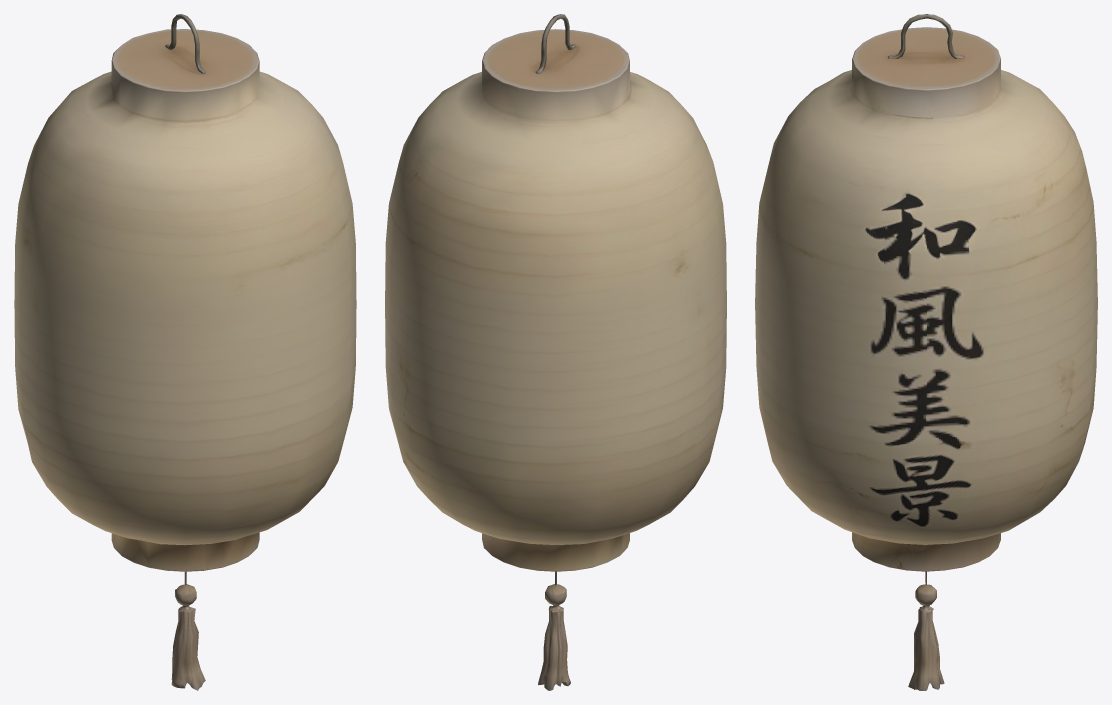
The model's file is latern1.glb.
3 renders of one model, left to right at view 1: azimuth 30°, elevation 25°; view 2: azimuth 150°, elevation 25°; view 3: azimuth 270°, elevation 25°, orthographic.
Visible parts, largest first — view 1: tripo_node_976403fa-bda7-4c86-9a10-07f4c2270465; view 2: tripo_node_976403fa-bda7-4c86-9a10-07f4c2270465; view 3: tripo_node_976403fa-bda7-4c86-9a10-07f4c2270465.
Boxes of the visible parts, x1,y1,x2,y2 form: tripo_node_976403fa-bda7-4c86-9a10-07f4c2270465: (14,14,356,690); tripo_node_976403fa-bda7-4c86-9a10-07f4c2270465: (385,14,726,690); tripo_node_976403fa-bda7-4c86-9a10-07f4c2270465: (755,14,1097,690).
Size of the model in its own units: 0.4627 by 0.998 by 0.4627.
1 material, 1 textured.
